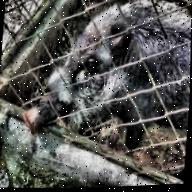boar: (16, 0, 192, 188)
